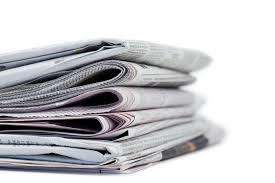Printing industry: (4, 16, 275, 183)
